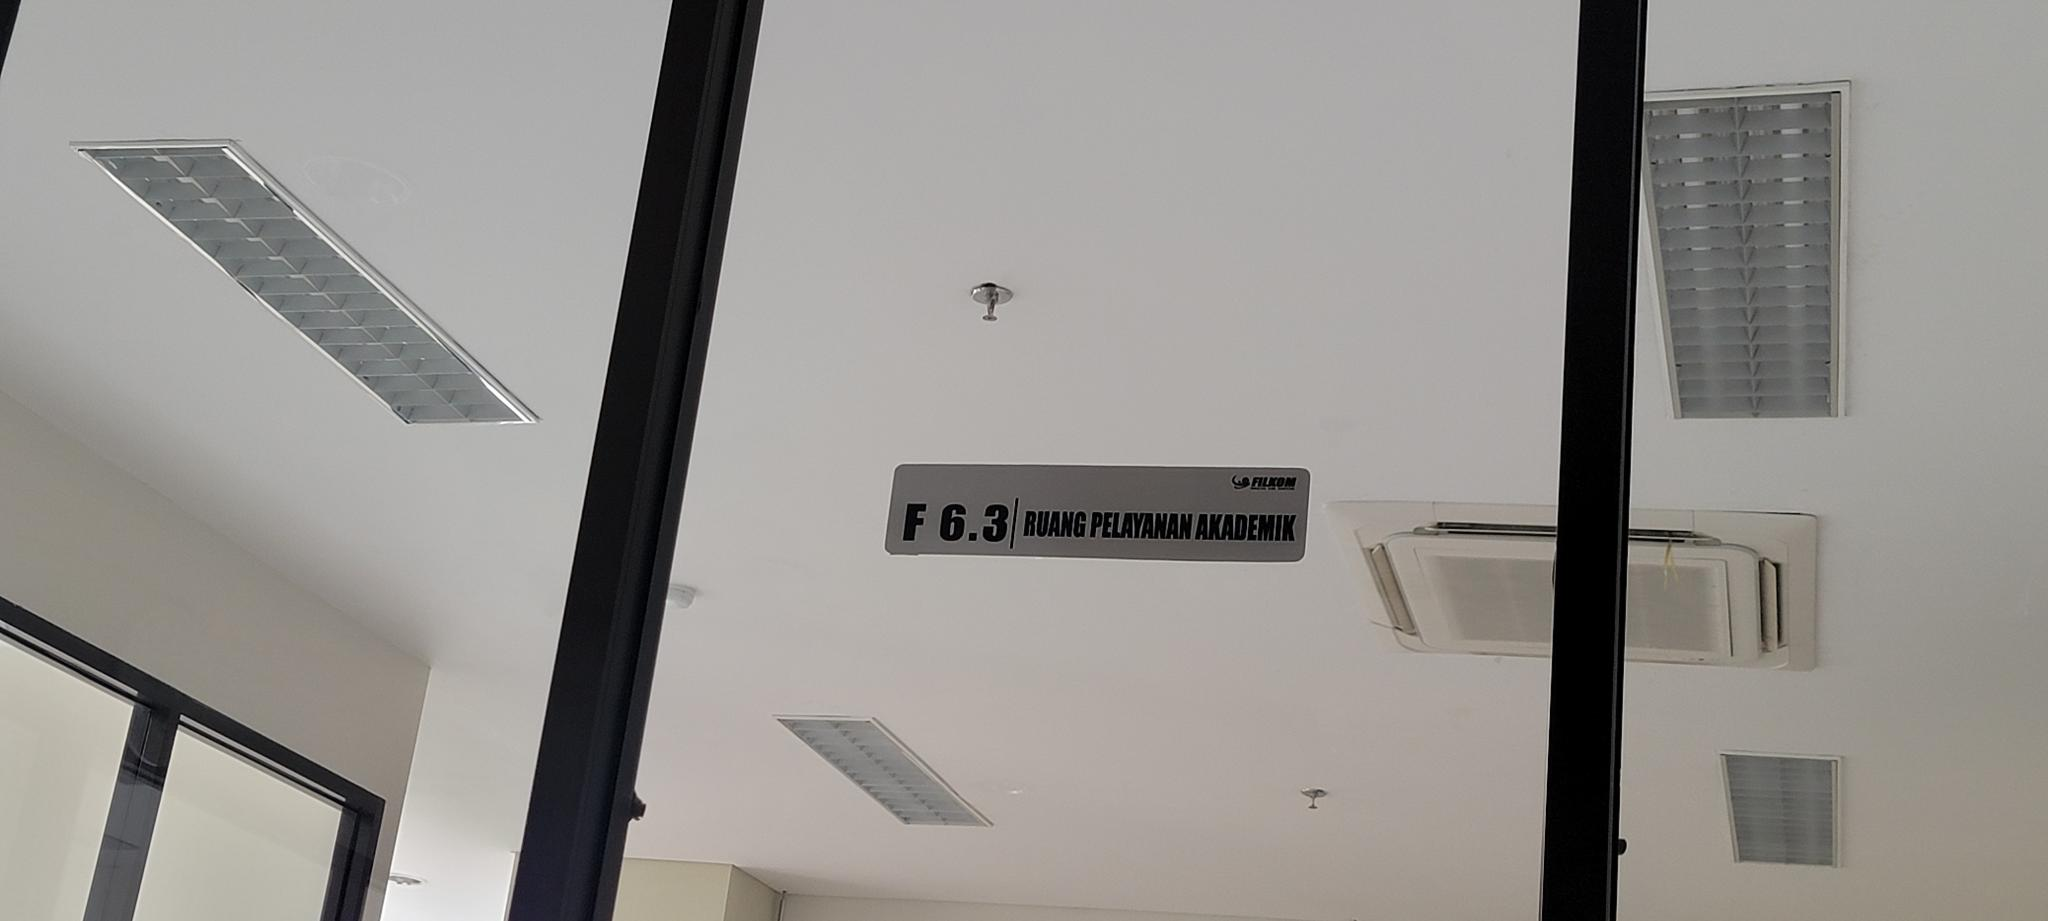plate: (886, 461, 1313, 566)
